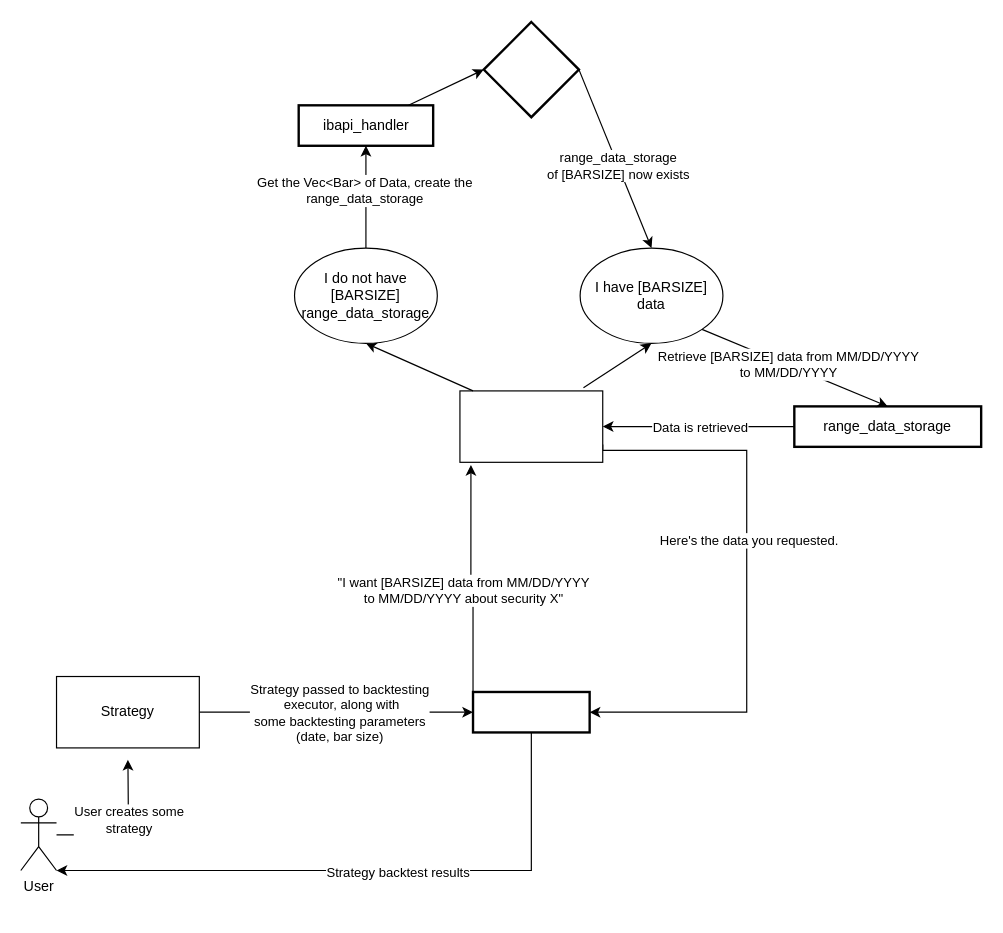
This 1003x933 diagram has some shape labels left out. Each missing label, with the centre of its shape:
"backtesting" goes at [530,711].
"Data Broker" goes at [531,426].
"Vec<Bar> Data" goes at [531,69].
